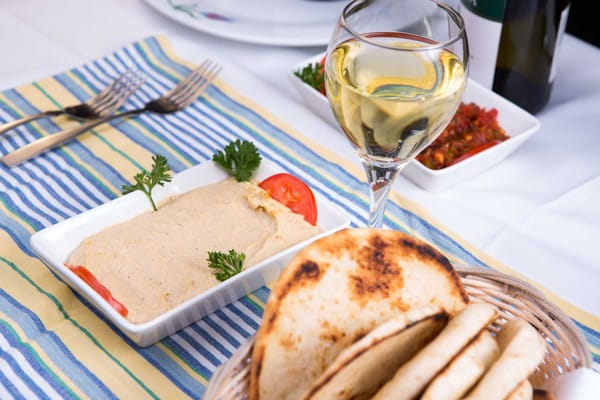burger: (1, 72, 209, 167)
soup: (247, 225, 471, 396)
